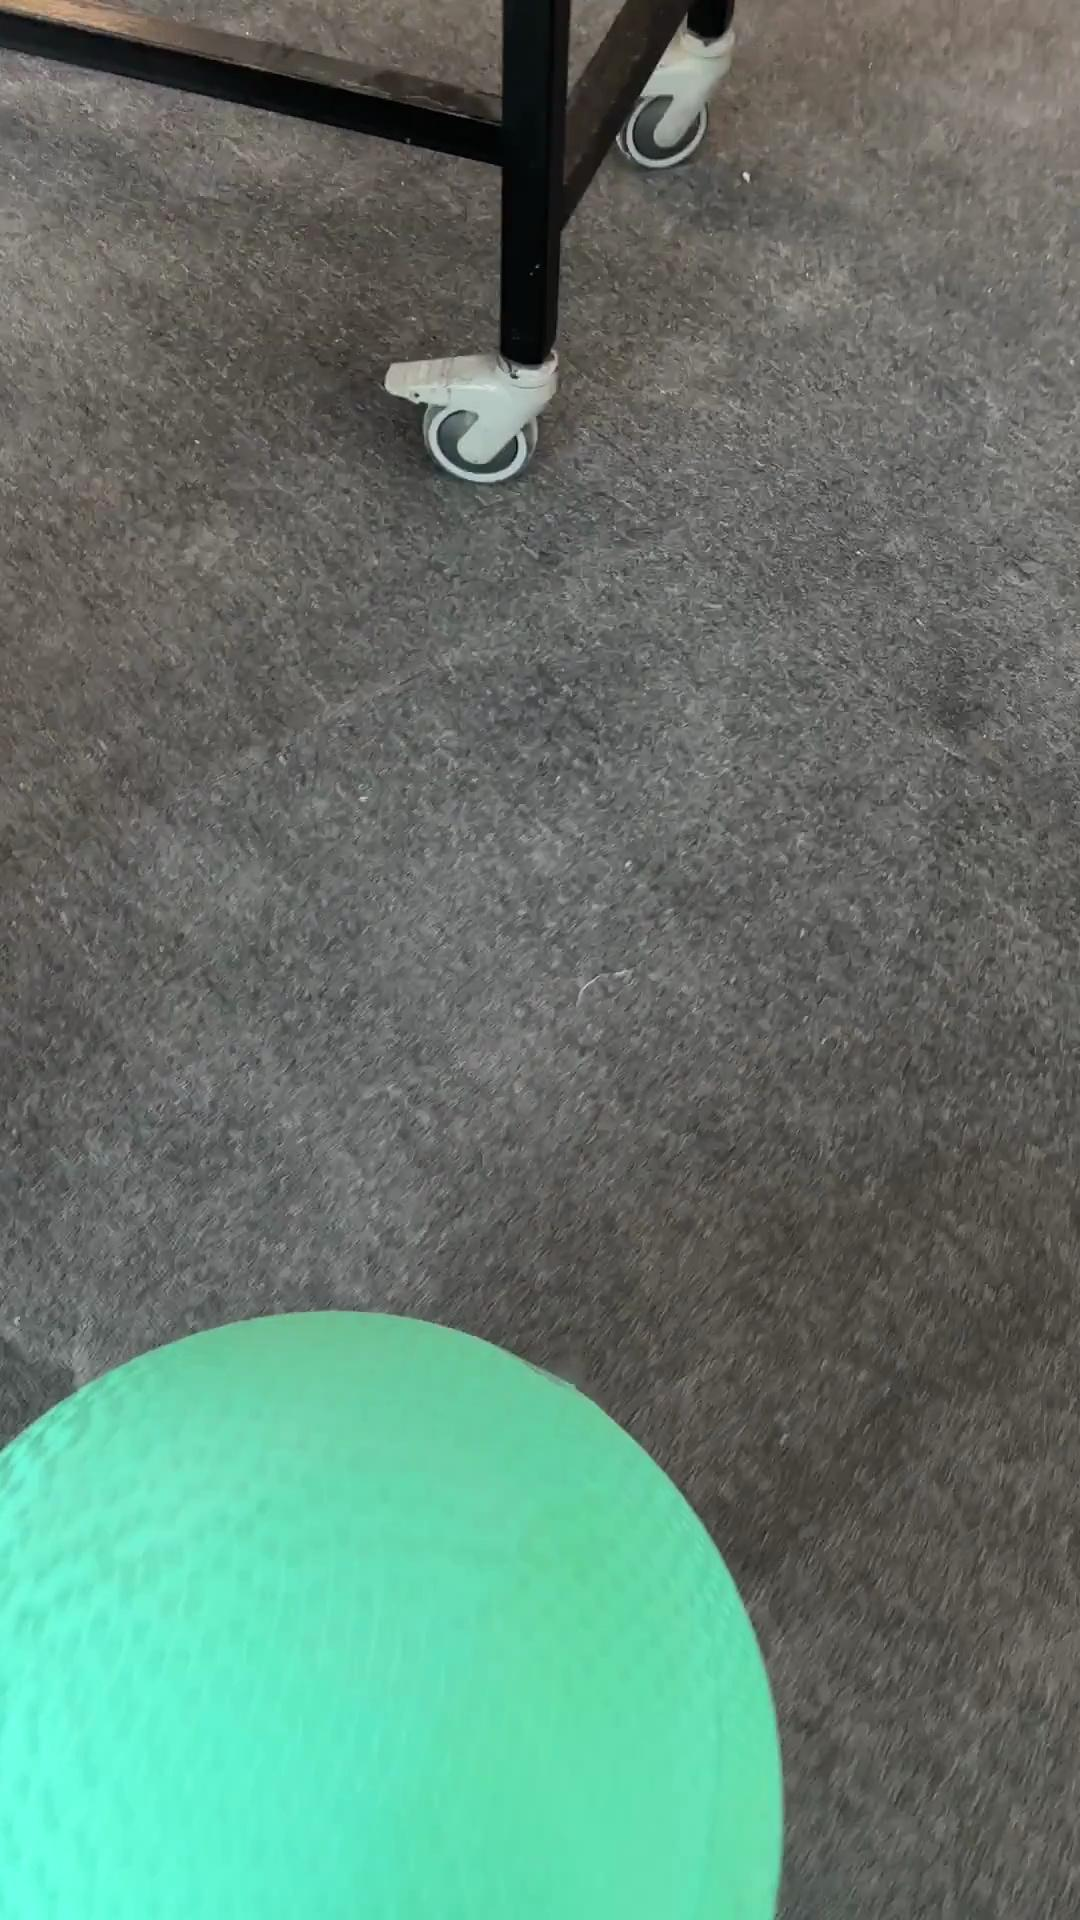ALGAE: (1, 1305, 787, 1917)
